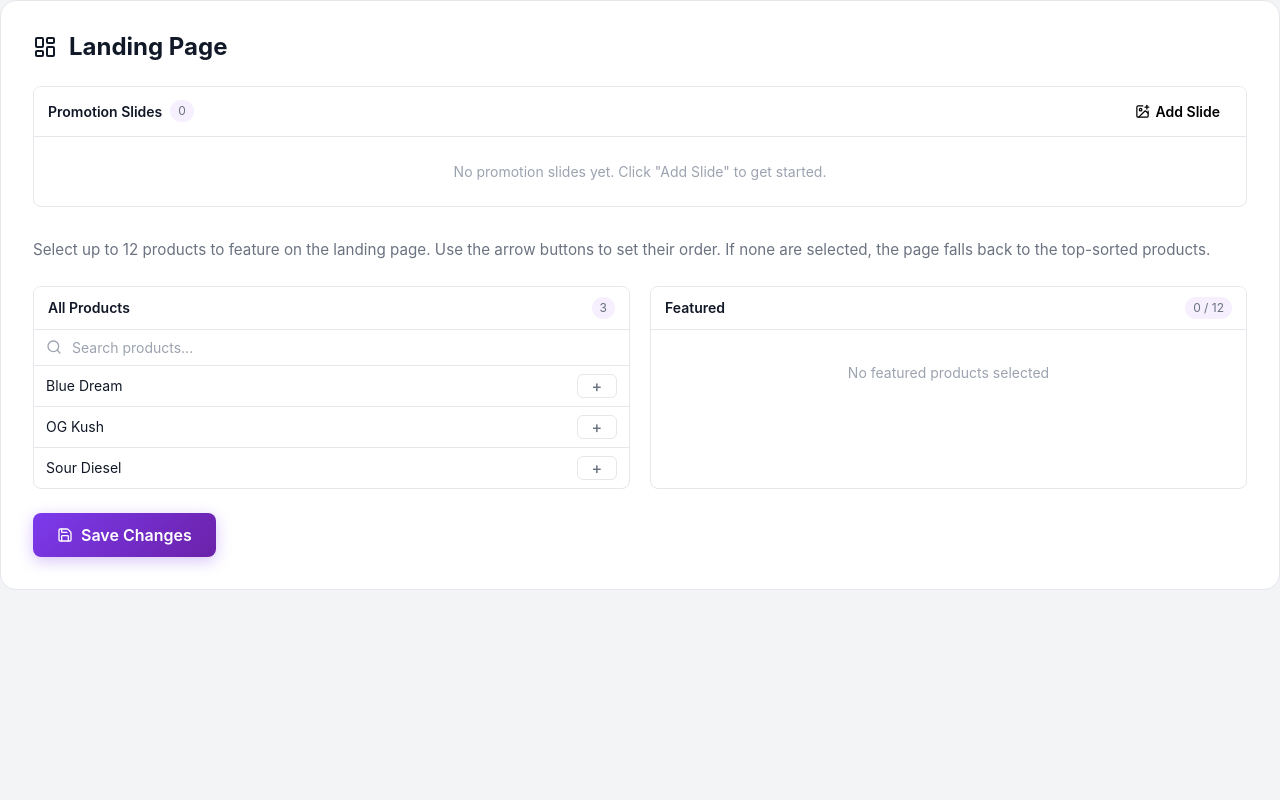
Test: LandingPageSection › filters the available products list by search query
The width and height of the screenshot is (1280, 800).
Type "kush" into the field with placeholder "Search products..." at (344,347), box [70, 338, 617, 357]
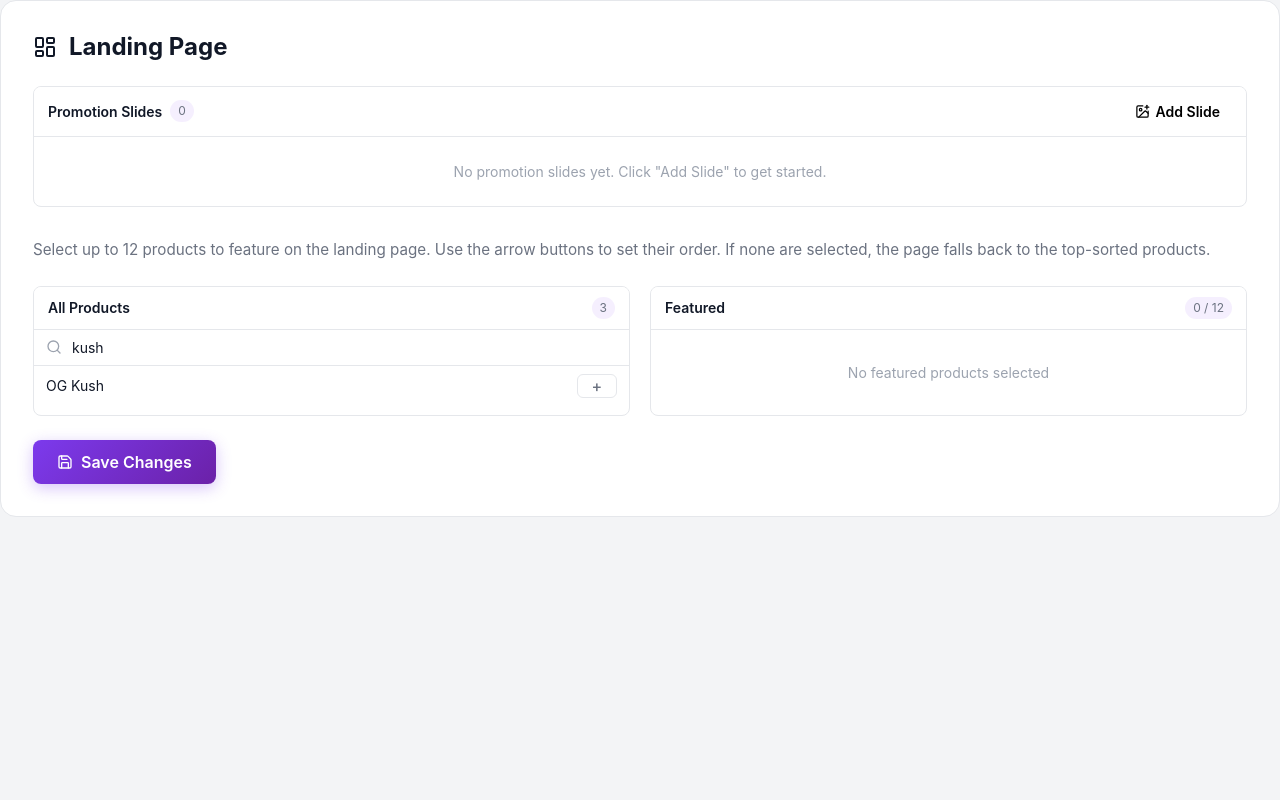
expect the text "OG Kush" is shown: met, box [46, 377, 104, 394]
expect the text "Blue Dream" is gone: met
